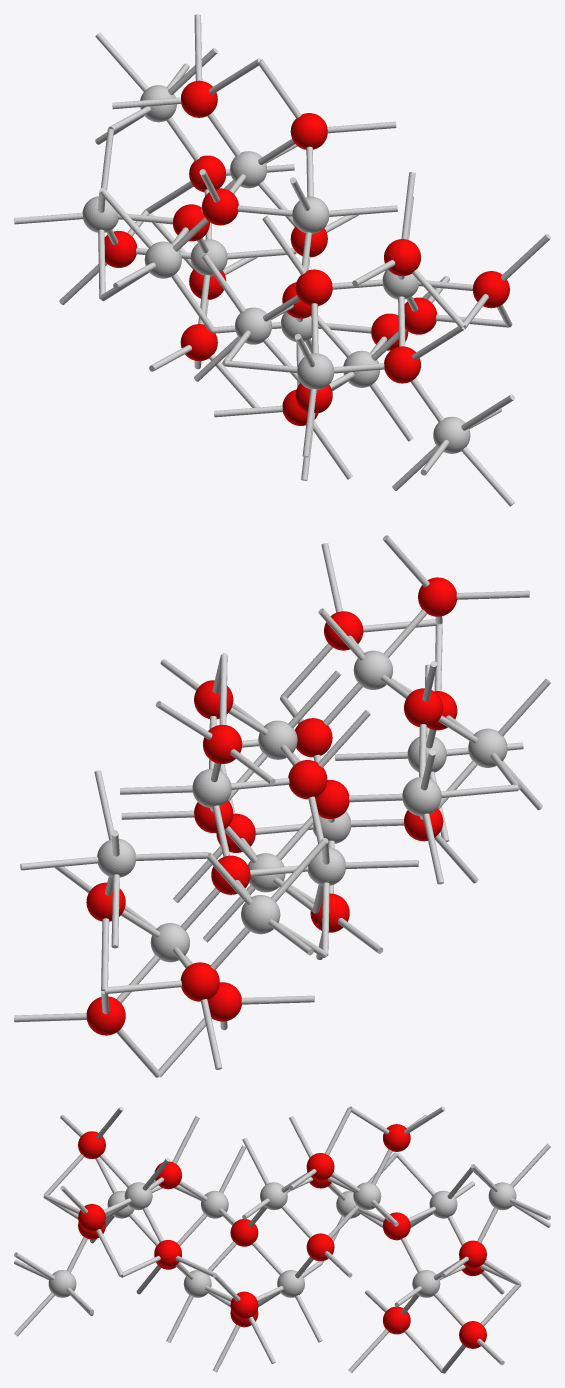
File: structure_mpstyle.glb
3 views of the same model, one above another, from view 1: azimuth 30°, elevation 25°; view 2: azimuth 150°, elevation 25°; view 3: azimuth 270°, elevation 25° (orthographic). The views are drawn at different scales.
Parts seen in each view (by area): view 1: world; view 2: world; view 3: world.
Boxes of the visible parts, <box> form: world: <box>14,14,550,506</box>; world: <box>14,535,550,1077</box>; world: <box>14,1106,550,1373</box>.
Size of the model in its own units: 6.56 by 8.43 by 15.41.
